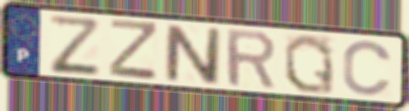C: (341, 39, 395, 98)
N: (162, 21, 223, 87)
Q: (282, 32, 337, 96)
R: (223, 27, 278, 91)
Z: (46, 12, 103, 75), (106, 17, 160, 83)
